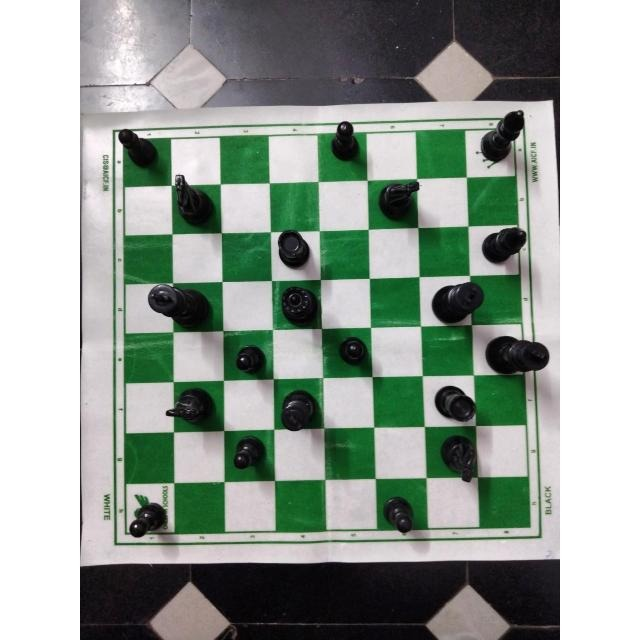black-bishop: (476, 105, 536, 169), (479, 222, 535, 272)
black-king: (145, 280, 215, 330), (483, 332, 555, 376), (429, 280, 487, 326), (277, 383, 322, 433)
black-knight: (168, 169, 222, 232), (374, 177, 428, 225), (436, 431, 479, 485), (163, 384, 217, 424)
black-pawn: (113, 129, 160, 171), (380, 490, 418, 538), (326, 116, 363, 164), (128, 500, 169, 542), (229, 339, 269, 381), (332, 333, 375, 371), (227, 433, 266, 473)
black-queen: (278, 283, 320, 327)
black-rook: (428, 379, 480, 421), (270, 228, 314, 272)
